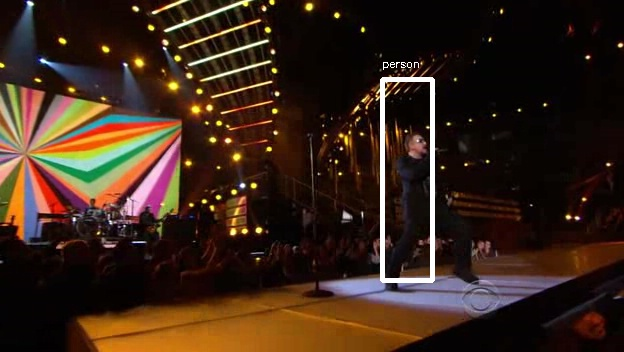person: (396, 137, 456, 240), (393, 137, 453, 240), (399, 137, 459, 240), (396, 134, 456, 237), (396, 140, 456, 243)
target_negative: (15, 141, 331, 283), (25, 263, 367, 320), (468, 6, 528, 305), (587, 42, 600, 229), (356, 195, 611, 204), (519, 96, 551, 123)
